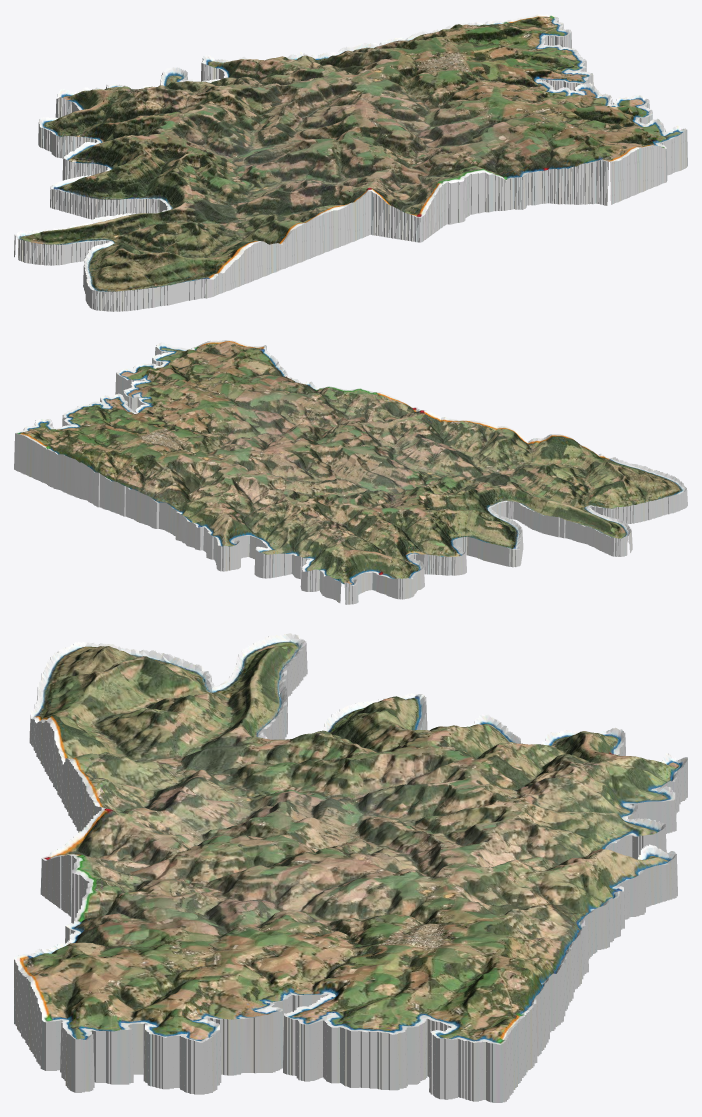
3 views of the same model, one above another, from view 1: azimuth 30°, elevation 25°; view 2: azimuth 150°, elevation 25°; view 3: azimuth 270°, elevation 25° (orthographic). The views are drawn at different scales.
Bounding box in the file's own units: 1 × 0.0762 × 0.6507.
Materials: 1 (1 with a texture image).
